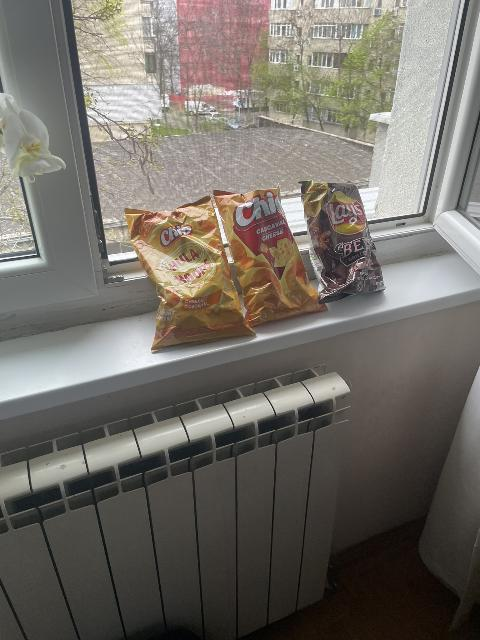Chio Cascaval 125g: (217, 186, 327, 326)
Chio Hula Hoops Cheese 70g: (125, 196, 255, 350)
Lays Beef Grilled Ribs 125g: (305, 178, 387, 300)
